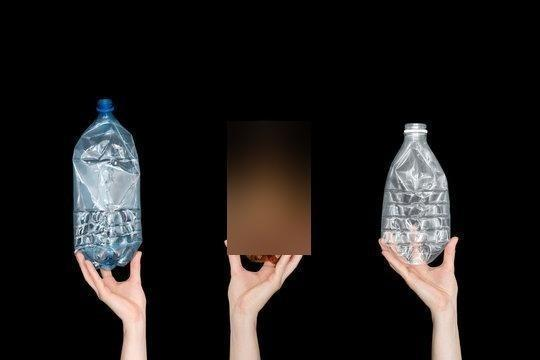bottle-plastic: (69, 96, 145, 272), (378, 119, 454, 266)
